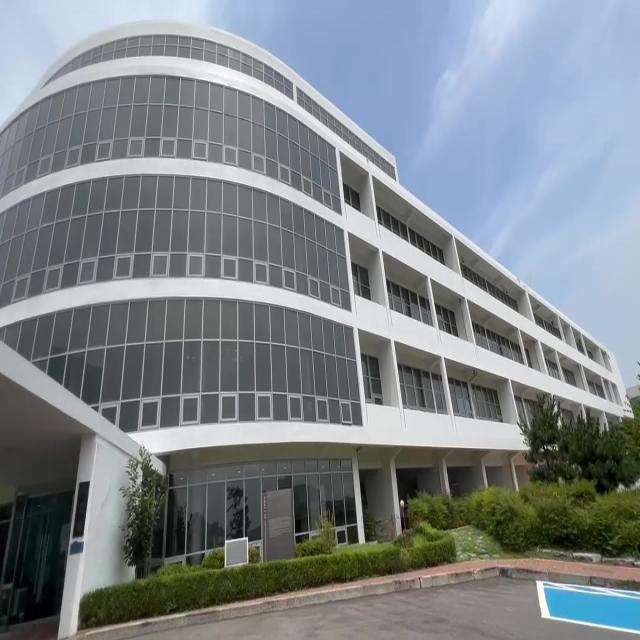building: (65, 8, 473, 480)
